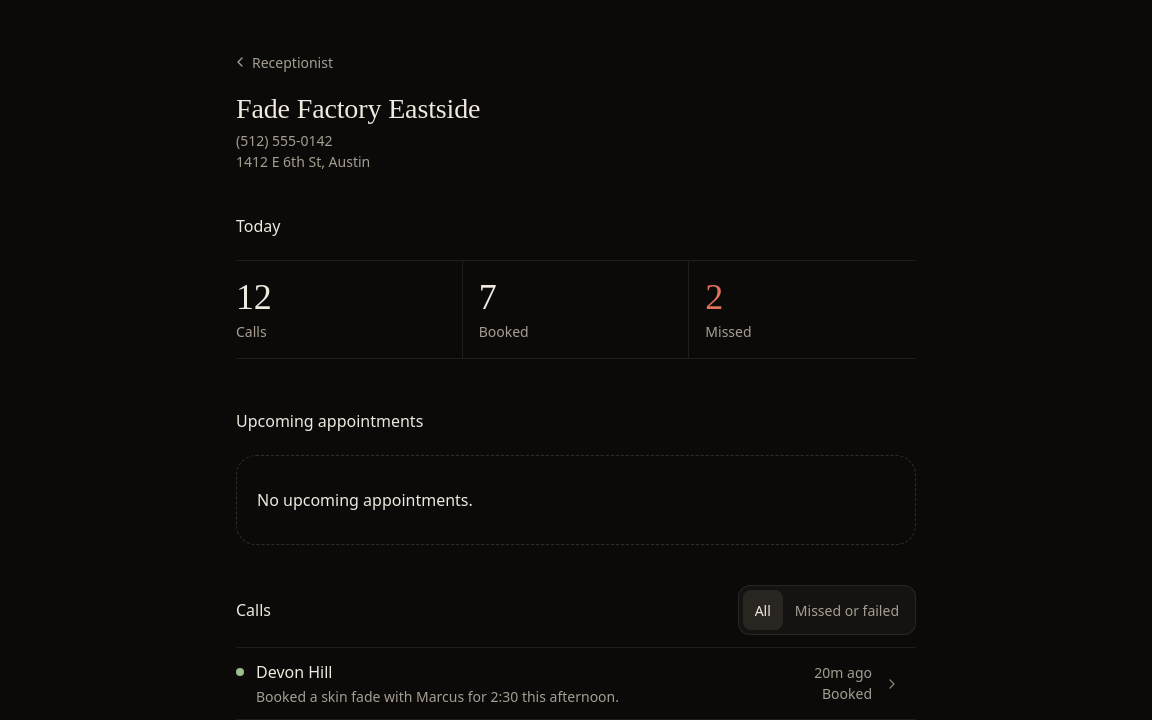
Test case: Receptionist: one call › opens from the list with the outcome, the summary and the whole conversation
Click the button "Devon Hill" at (294,672), box [228, 648, 908, 719]
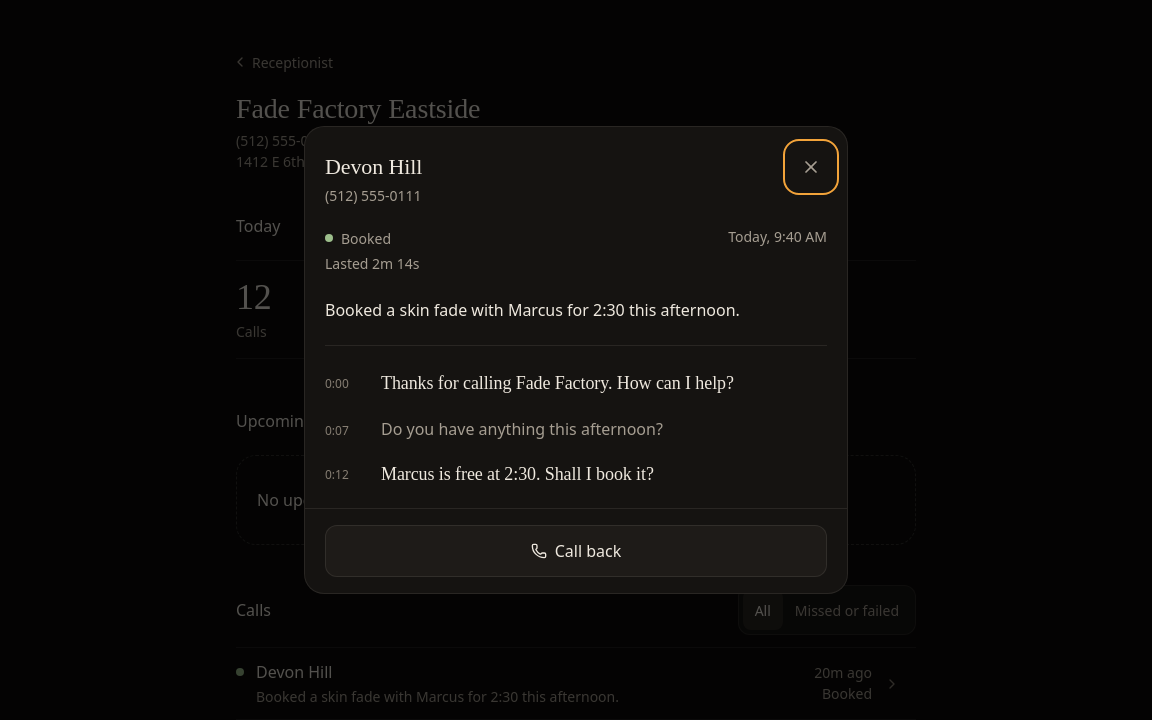
Check: the text "(512) 555-0111" is shown, box [325, 186, 422, 205]
Check: the text "Booked" is shown, box [325, 227, 391, 248]
Check: the text "Lasted 2m 14s" is shown, box [325, 253, 420, 272]
